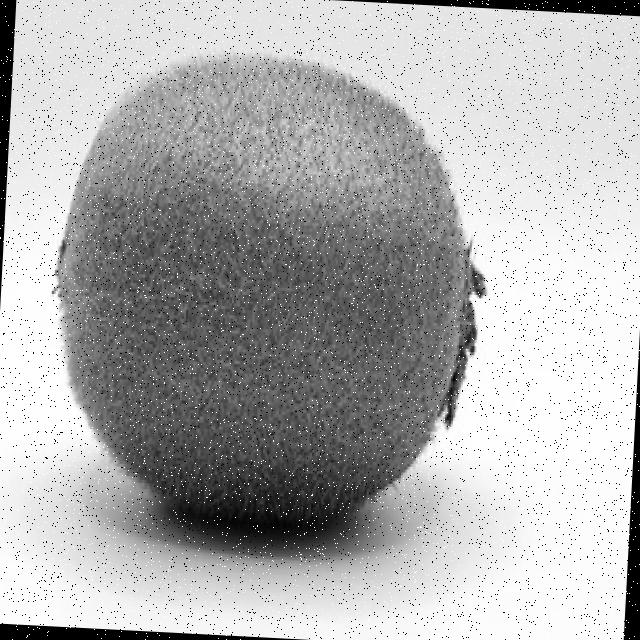kiwi: (58, 60, 487, 526)
